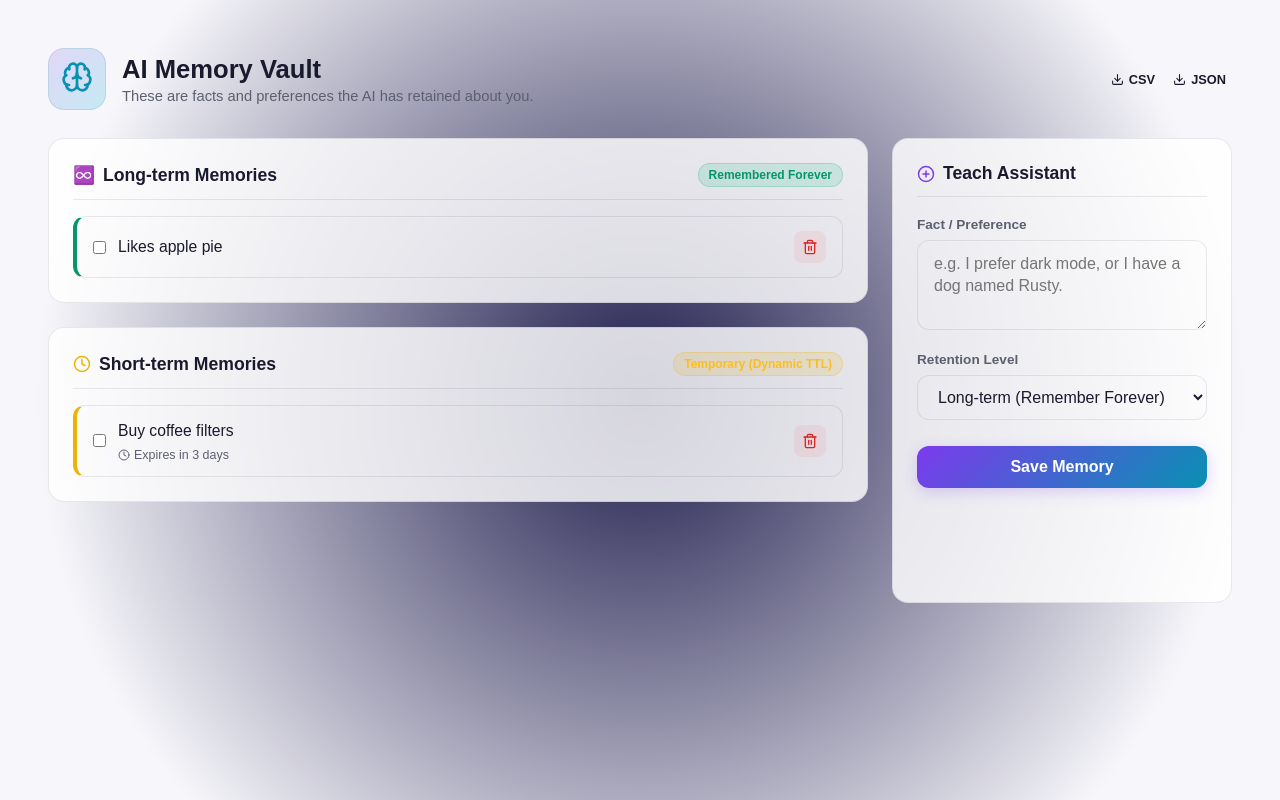
Scenario: MemoryPane Component Tests › bulk delete › "Clear selection" empties the selection and hides the toolbar
The image size is (1280, 800).
Click the checkbox named "Select memory: Likes apple pie" at (100, 247), box [93,240,106,254]
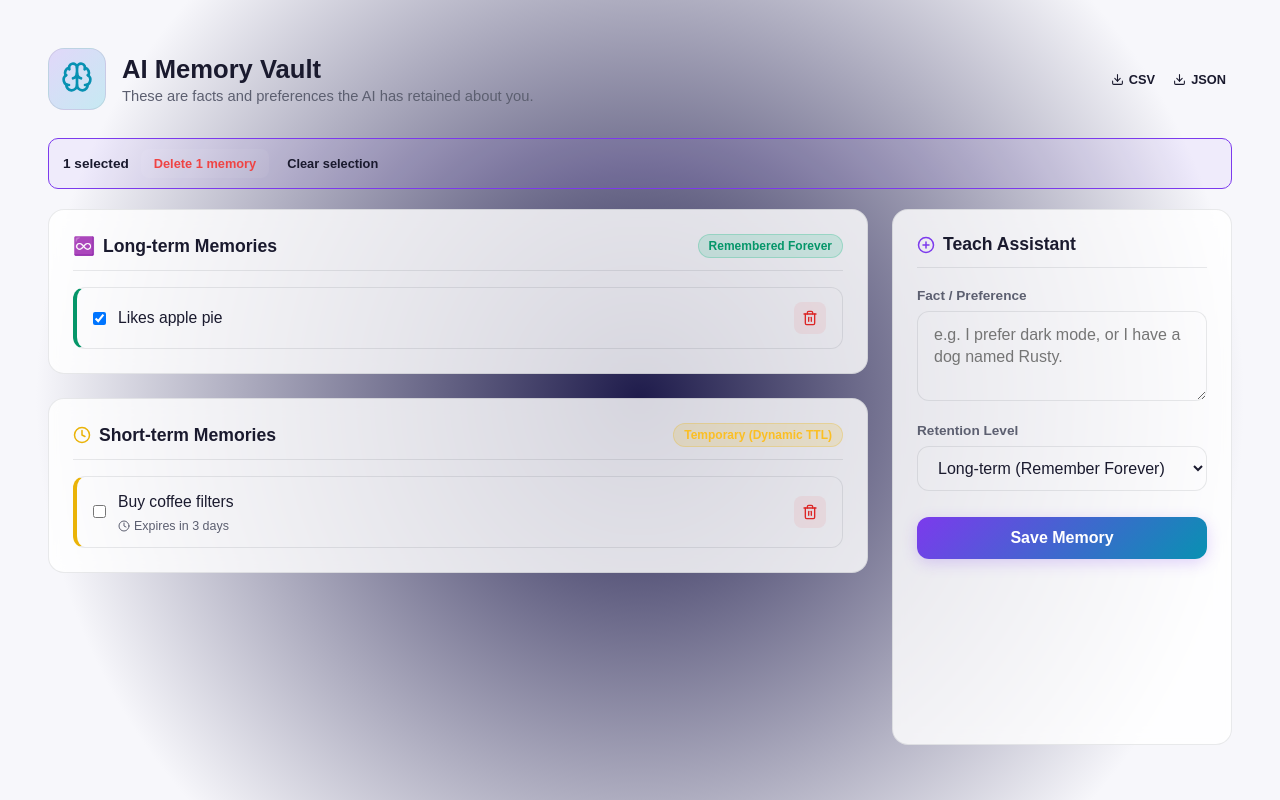
Click the button "Clear selection" at (333, 164), box [281,150,384,177]
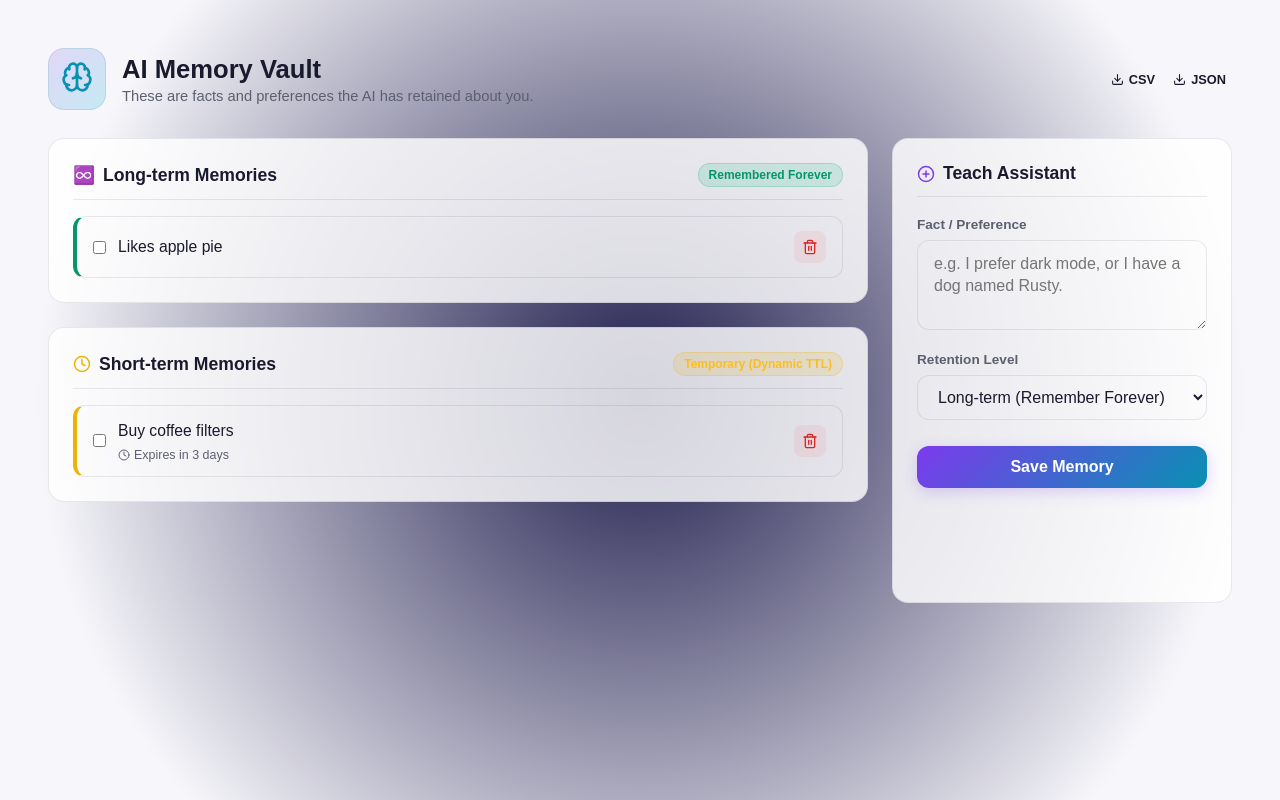
Expected: the checkbox named "Select memory: Likes apple pie" is not checked, [93,240,106,254]
Expected: the text "selected" is gone
